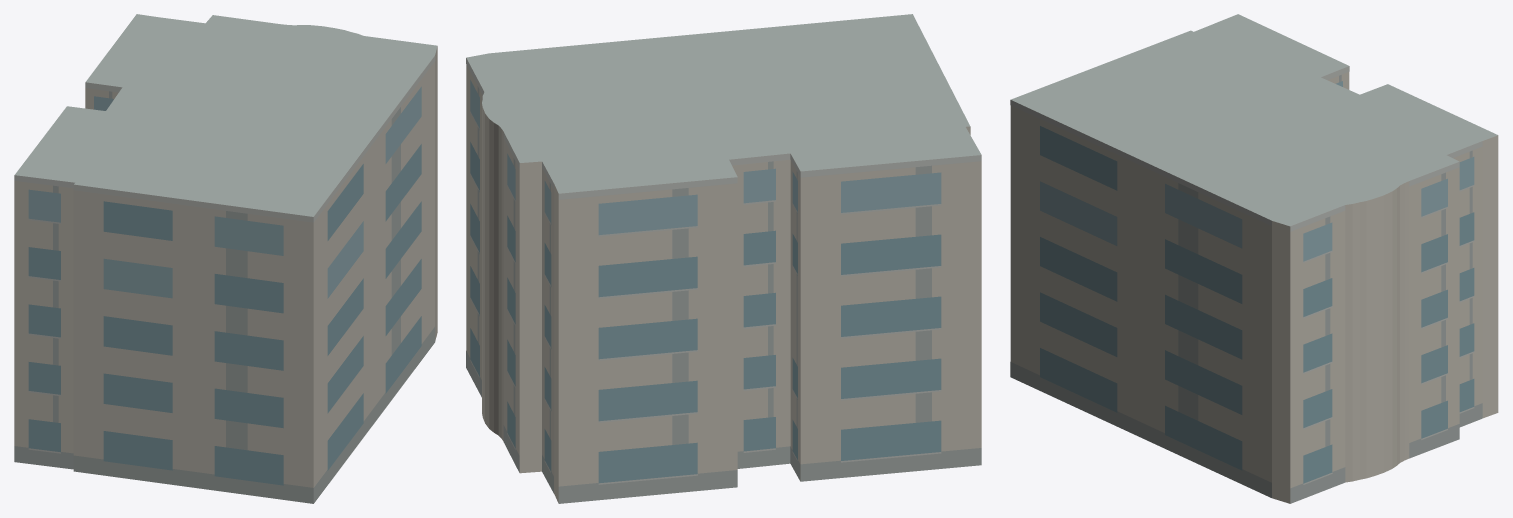
File: survey-upis-33020349.glb
3 views of the same model, side by side, from view 1: azimuth 30°, elevation 25°; view 2: azimuth 150°, elevation 25°; view 3: azimuth 270°, elevation 25° (orthographic). The views are drawn at different scales.
Visible parts, largest first — view 1: survey-upis-33020349.tmp; view 2: survey-upis-33020349.tmp; view 3: survey-upis-33020349.tmp.
Boxes of the visible parts, x1,y1,x2,y2 form: survey-upis-33020349.tmp: (14, 14, 437, 503); survey-upis-33020349.tmp: (466, 14, 981, 503); survey-upis-33020349.tmp: (1010, 14, 1498, 503).
Size of the model in its own units: 20.03 by 12.2 by 19.45.
